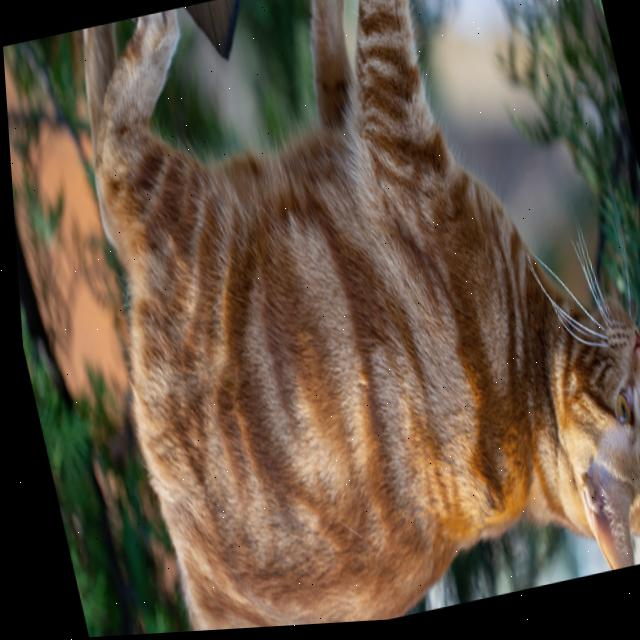American Bobtail: (41, 0, 640, 638)
